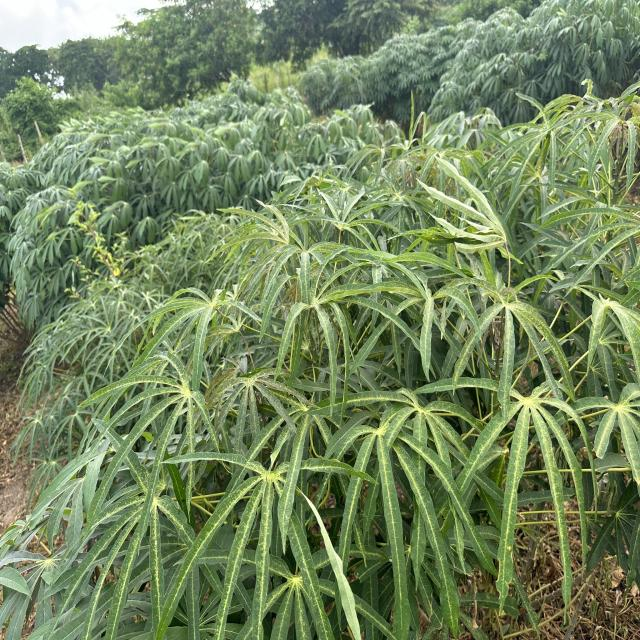Mosca: (375, 420, 392, 441), (70, 557, 84, 570), (331, 313, 340, 326), (506, 543, 514, 553)
